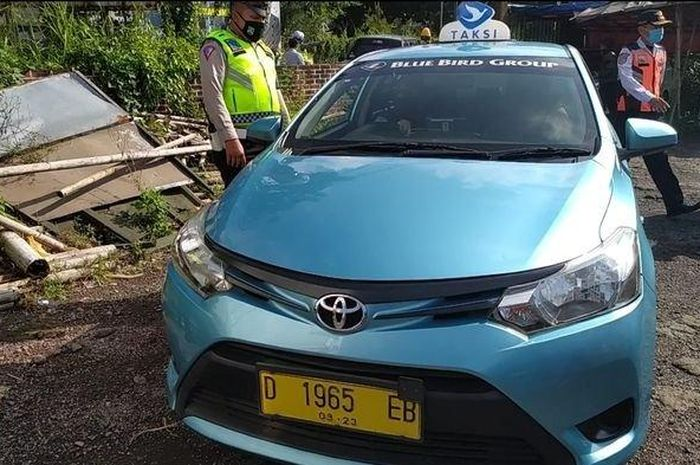plate: (259, 372, 419, 433)
